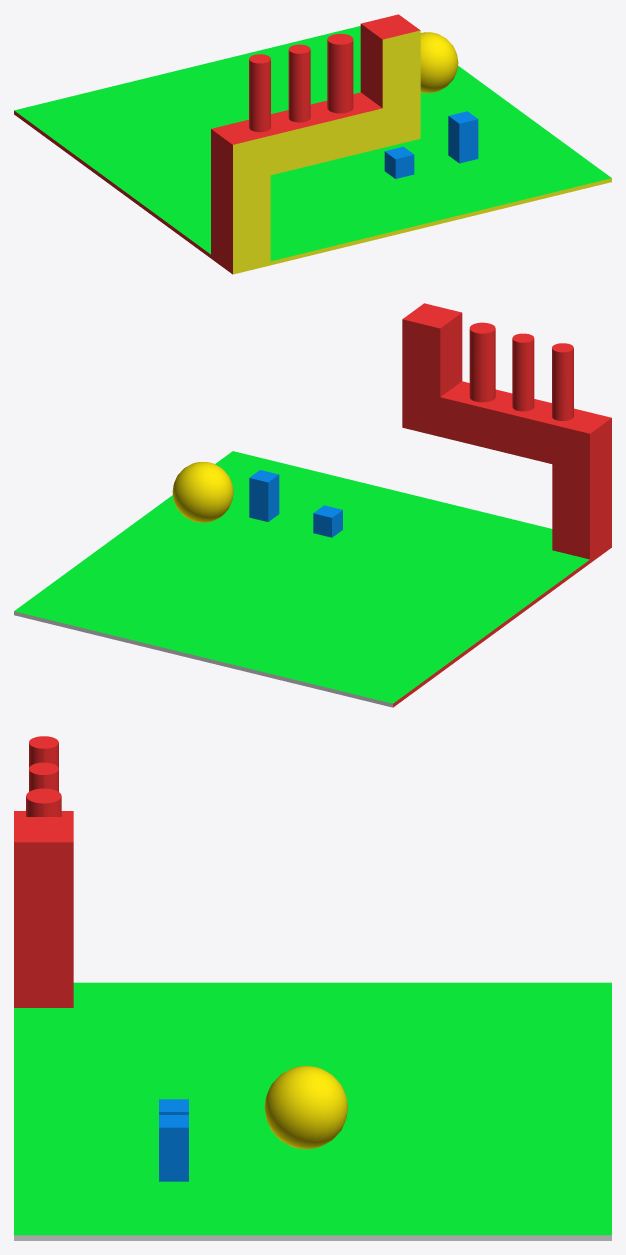
Rendered from Hesty.dae.
3 views of the same model, one above another, from view 1: azimuth 30°, elevation 25°; view 2: azimuth 150°, elevation 25°; view 3: azimuth 270°, elevation 25° (orthographic). The views are drawn at different scales.
Visible parts, largest first — view 1: SketchUp (×6); view 2: SketchUp (×6); view 3: SketchUp (×5).
Part boxes in pixels (<box>): SketchUp (×6): <box>14,14,611,274</box>; SketchUp (×6): <box>14,303,611,707</box>; SketchUp (×5): <box>14,736,611,1240</box>.
Size of the model in its own units: 39.37 by 39.37 by 19.69.
